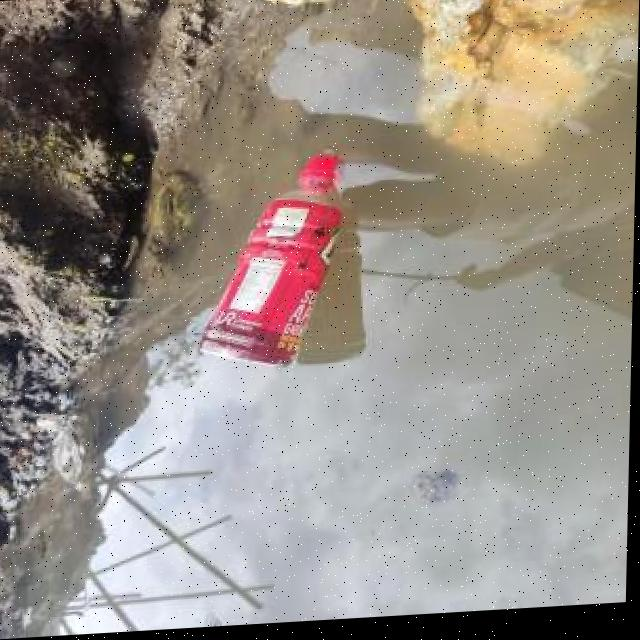bottle: (188, 150, 354, 378)
